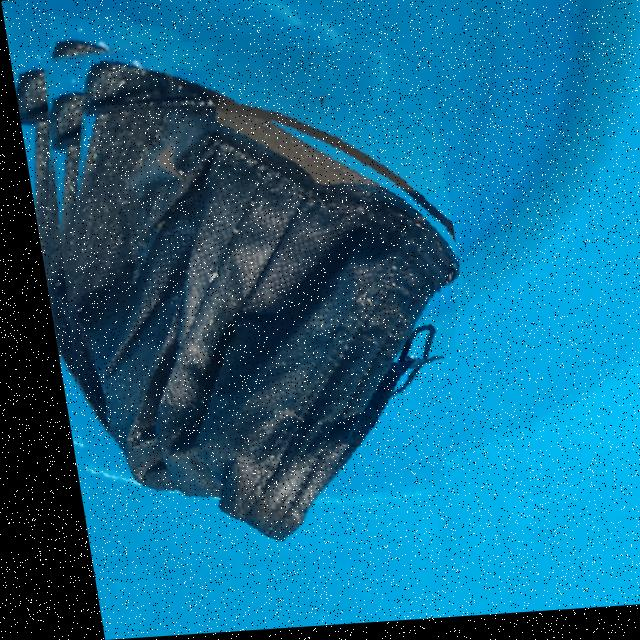mask: (4, 11, 484, 566)
